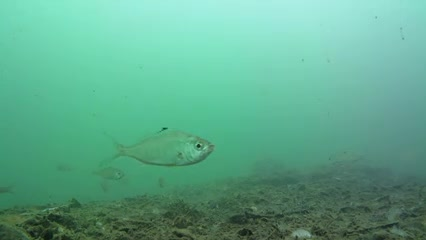smallfish: (114, 119, 221, 180)
